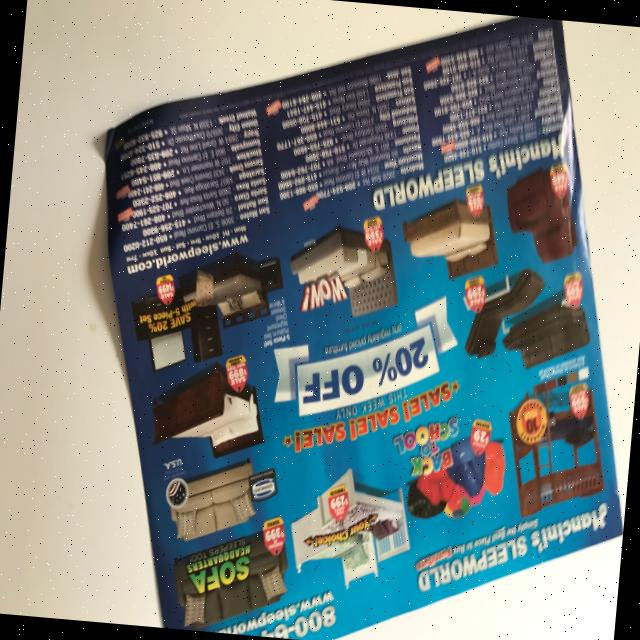paper: (63, 0, 640, 640)
